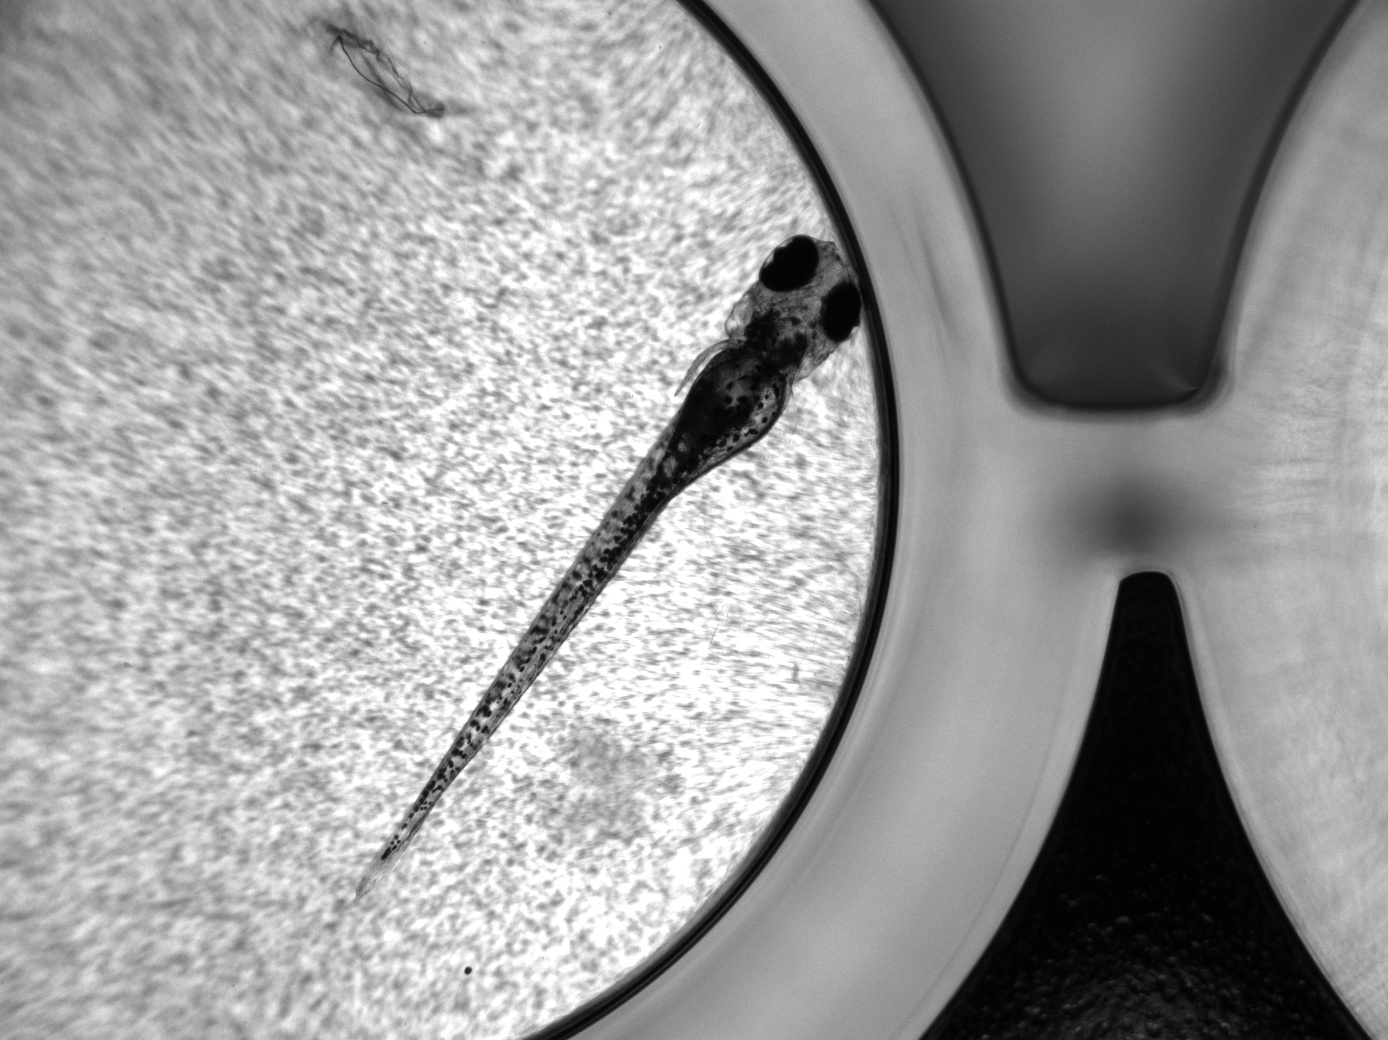debris: (318, 17, 463, 132)
embryo: (355, 236, 863, 898)
eye: (760, 235, 818, 293), (818, 279, 861, 342)
yolksac: (680, 347, 791, 457)
